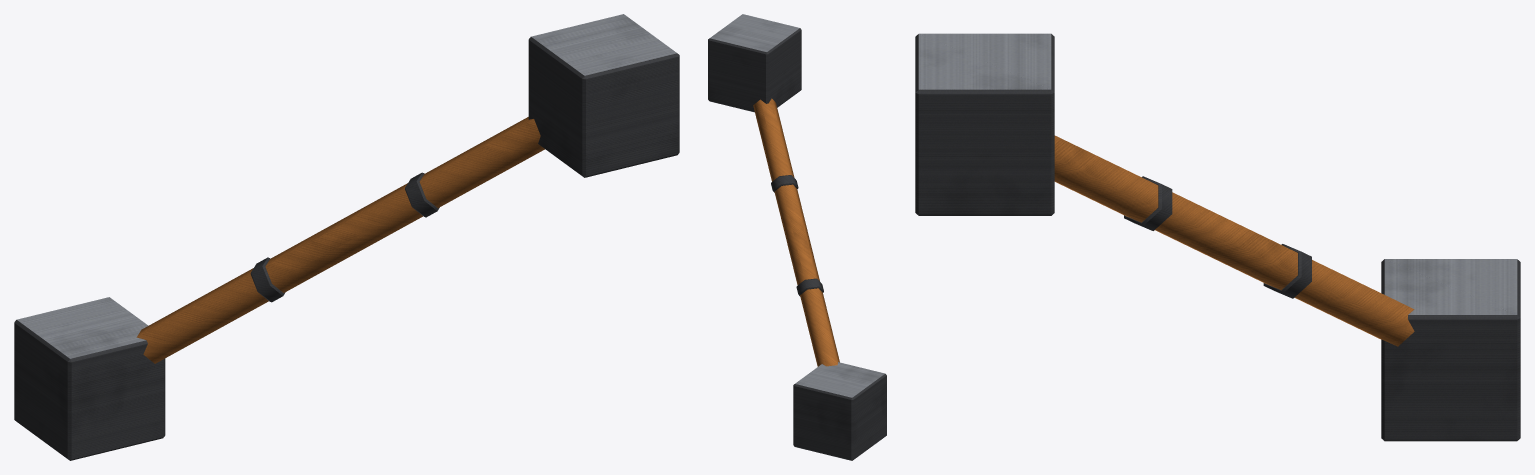
The model's file is R4C_ROD_DIAG_3D_LOD1.glb.
3 renders of one model, left to right at view 1: azimuth 30°, elevation 25°; view 2: azimuth 150°, elevation 25°; view 3: azimuth 270°, elevation 25°, orthographic. The views are drawn at different scales.
Visible parts, largest first — view 1: R4C_ROD_DIAG_3D_LOD1; view 2: R4C_ROD_DIAG_3D_LOD1; view 3: R4C_ROD_DIAG_3D_LOD1.
Boxes of the visible parts, box(x1,y1,x2,y2) form: R4C_ROD_DIAG_3D_LOD1: box(14, 14, 679, 460); R4C_ROD_DIAG_3D_LOD1: box(708, 14, 886, 460); R4C_ROD_DIAG_3D_LOD1: box(915, 33, 1520, 441).
Bounding box in the file's own units: 1.62 × 1.62 × 1.62.
3 materials, 3 textured.
